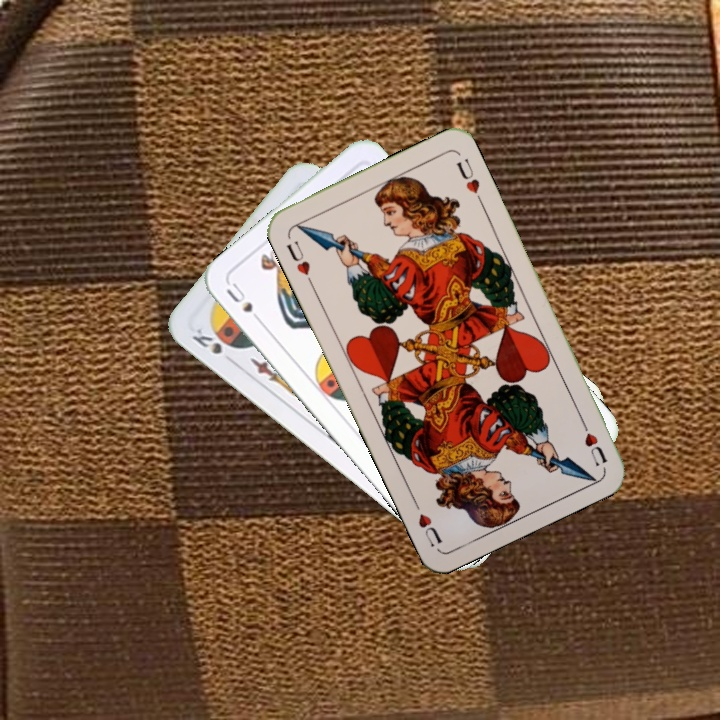HU: (576, 414, 610, 469), (282, 236, 313, 278)
SK: (188, 323, 225, 357)
SU: (222, 278, 267, 329)
